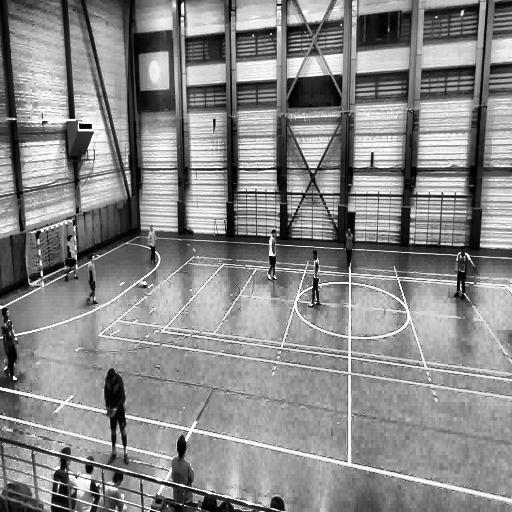ball: (143, 279, 147, 287)
player: (104, 367, 128, 463), (1, 306, 21, 386), (453, 244, 477, 298), (308, 248, 321, 307), (66, 234, 78, 282), (88, 254, 98, 304), (267, 229, 277, 279), (149, 225, 160, 267), (344, 226, 354, 271)
